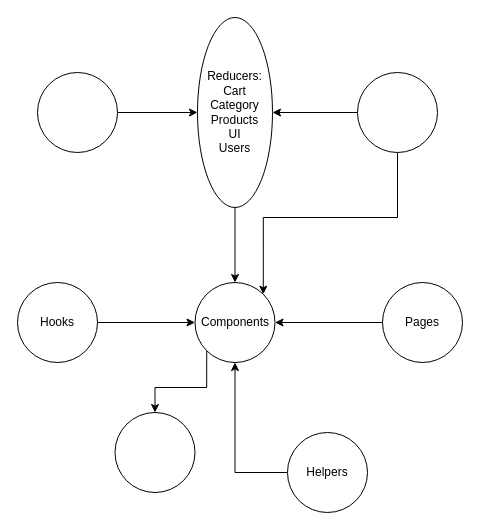
Image size: 480x530. Some labels were removed from this diagram. The centre of each missing label's shape, as x and y in pixels:
"Custom Components" belongs at (x=154, y=452).
"Store" belongs at (x=77, y=112).
"Types" belongs at (x=397, y=112).
